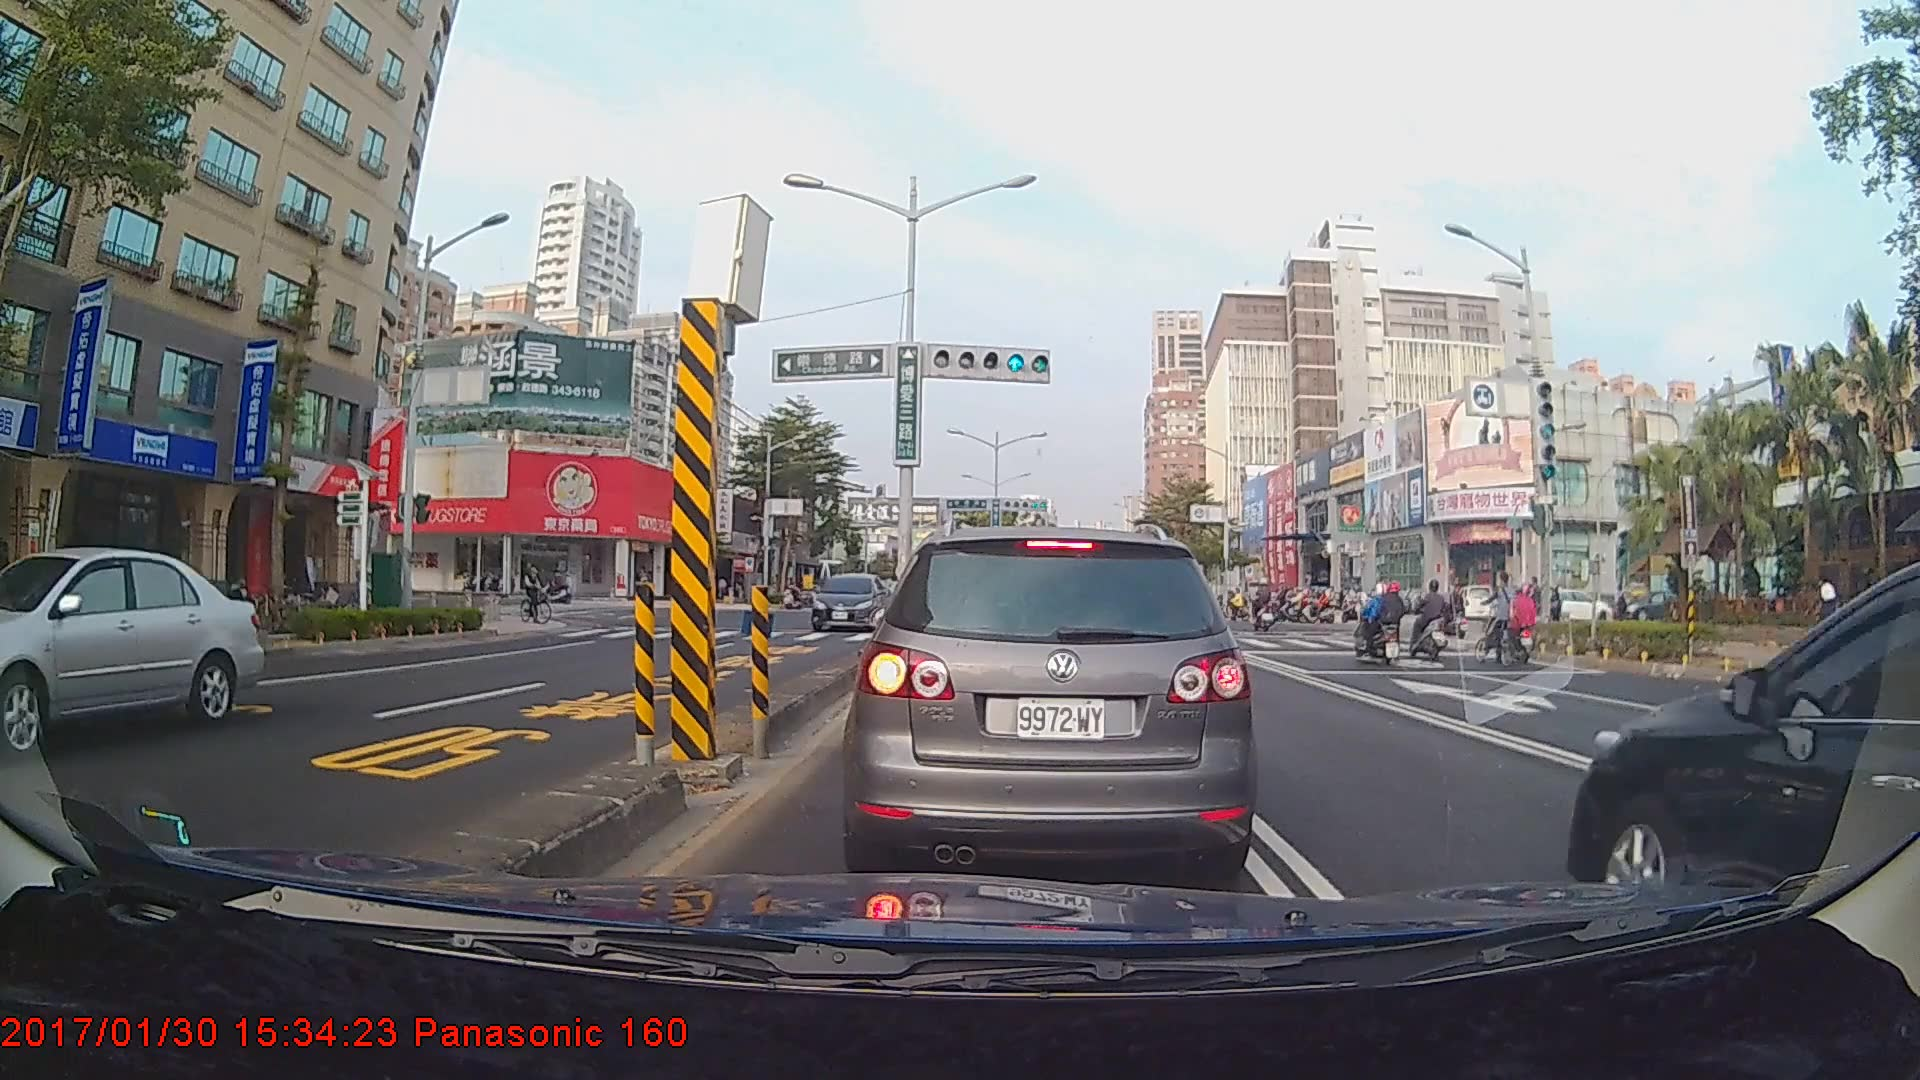pedestrian: (1611, 581, 1631, 640)
rider: (1468, 570, 1522, 667), (1357, 580, 1412, 668), (1402, 580, 1458, 662), (518, 559, 561, 629), (1245, 576, 1283, 637), (533, 568, 575, 605)
vehicle: (852, 522, 1251, 883), (1565, 559, 1918, 884), (0, 545, 262, 762), (808, 571, 891, 632)
